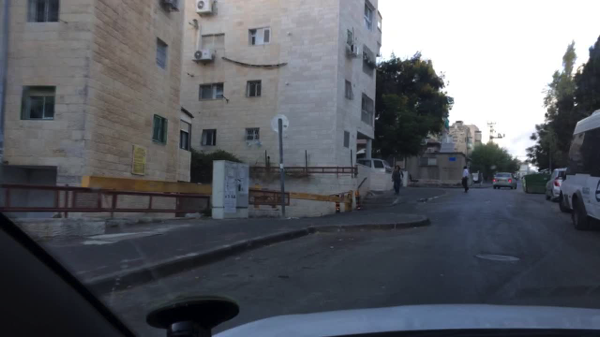car: (557, 107, 599, 228), (544, 167, 568, 206), (354, 156, 390, 179), (521, 169, 549, 195), (490, 170, 518, 192), (470, 170, 484, 184), (511, 168, 519, 181)
person: (391, 163, 403, 194), (460, 164, 469, 192)
traffic sign: (270, 114, 288, 134)
